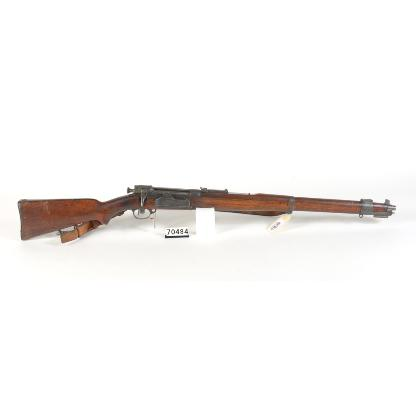gun: (11, 180, 415, 236)
